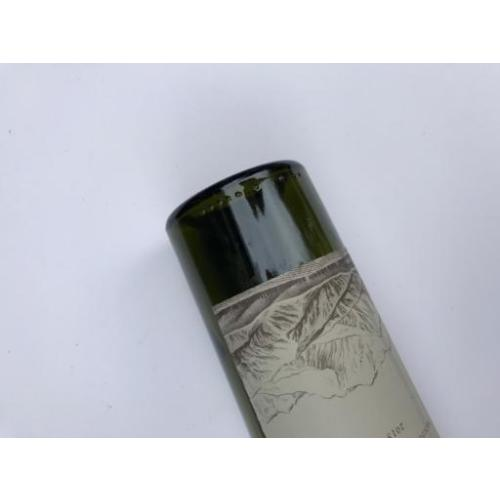glass: (163, 161, 443, 440)
